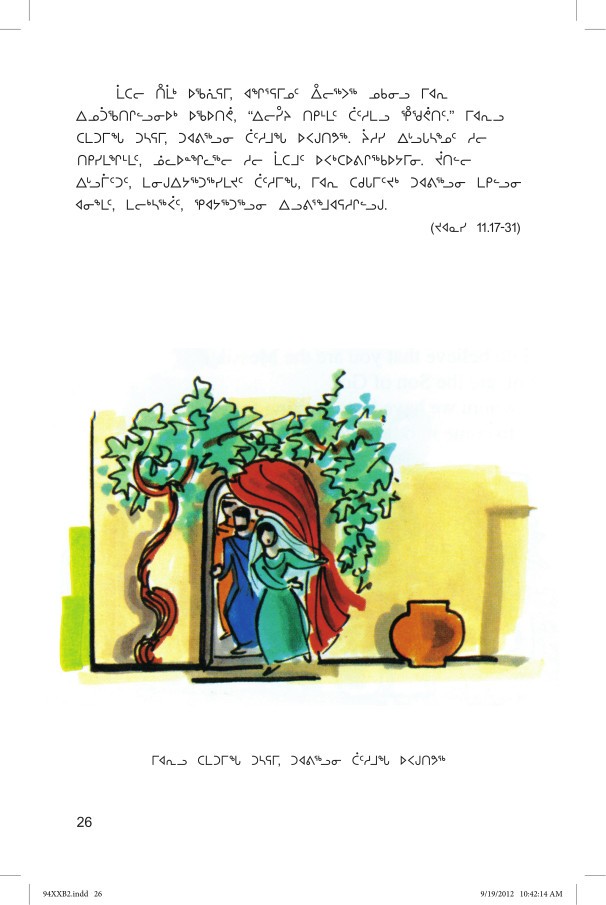inuktitut: (66, 79, 526, 219), (143, 744, 450, 771)
